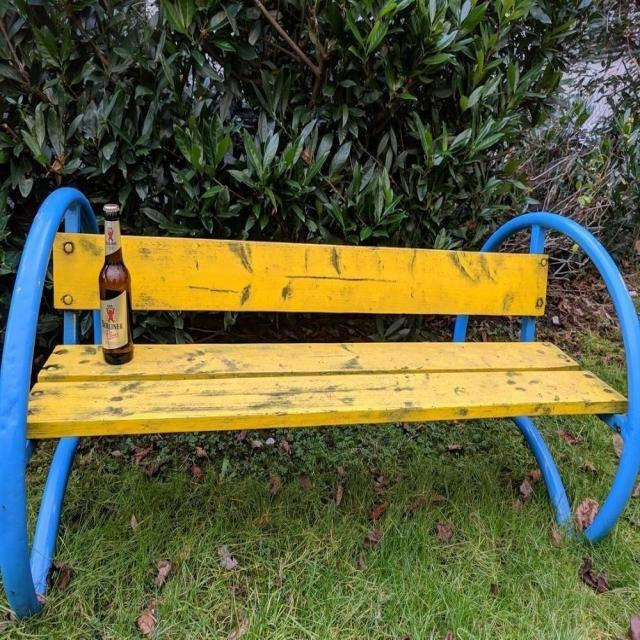bottle-glass: (98, 202, 134, 366)
